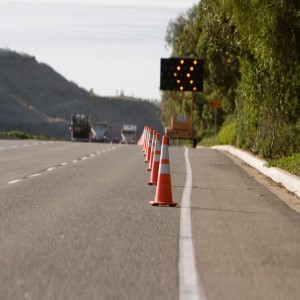traffic cone: (150, 135, 178, 208), (148, 134, 167, 185)
